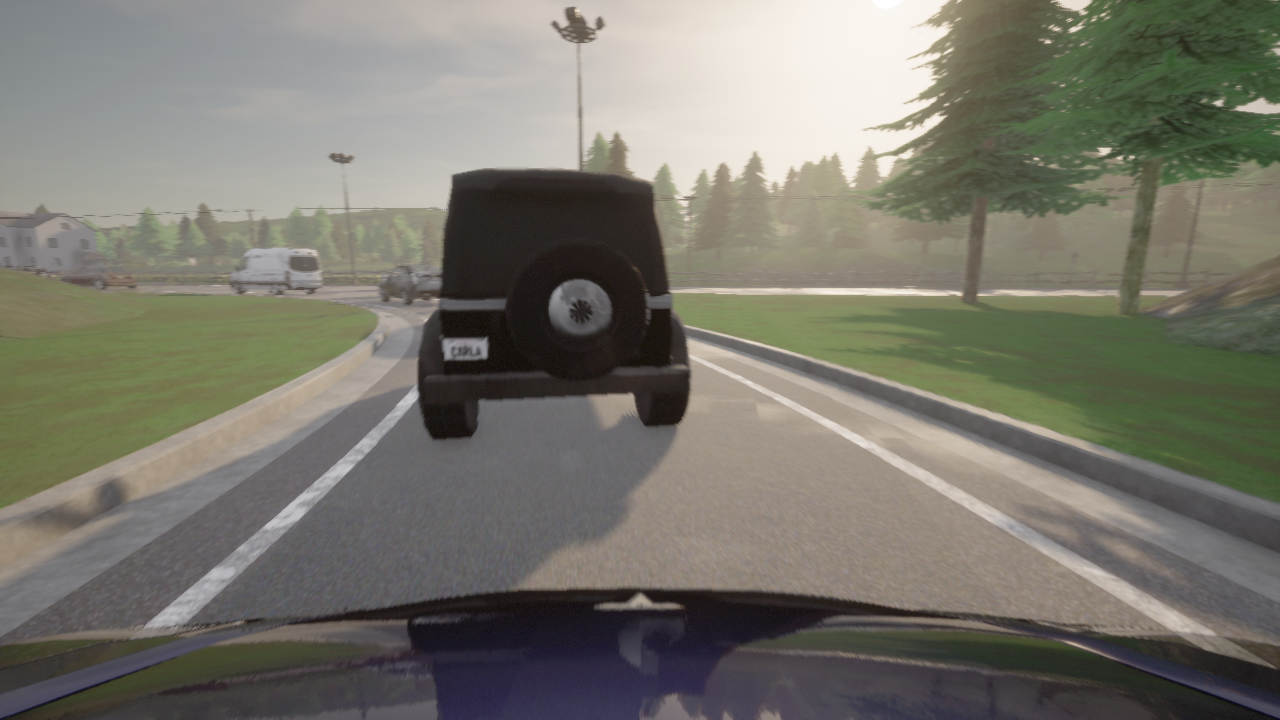cyclist: (0, 588, 1279, 719), (418, 169, 690, 438), (230, 247, 323, 295), (379, 265, 441, 305), (59, 266, 136, 289), (0, 264, 54, 279)
